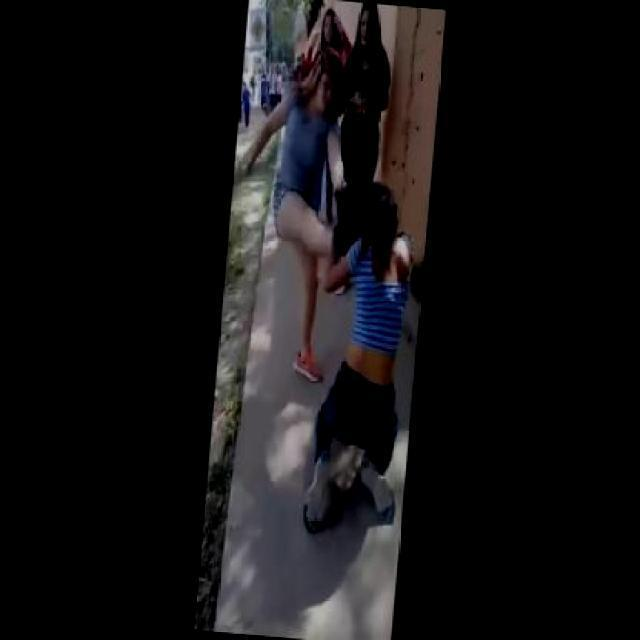fight: (252, 43, 430, 404)
